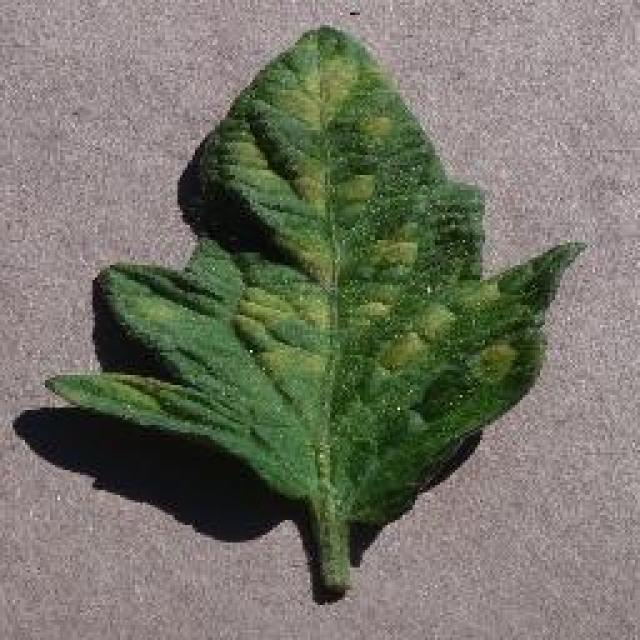Tomato mold leaf: (42, 24, 585, 524)
